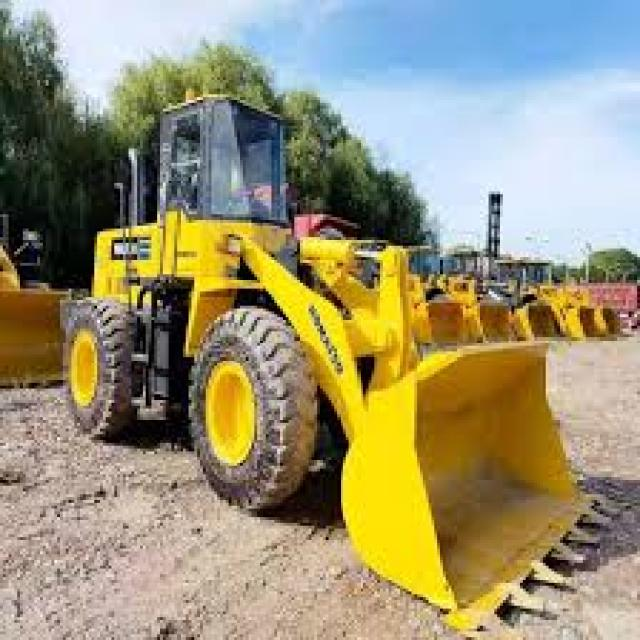buldozerpayloadergrader: (61, 87, 622, 639)
